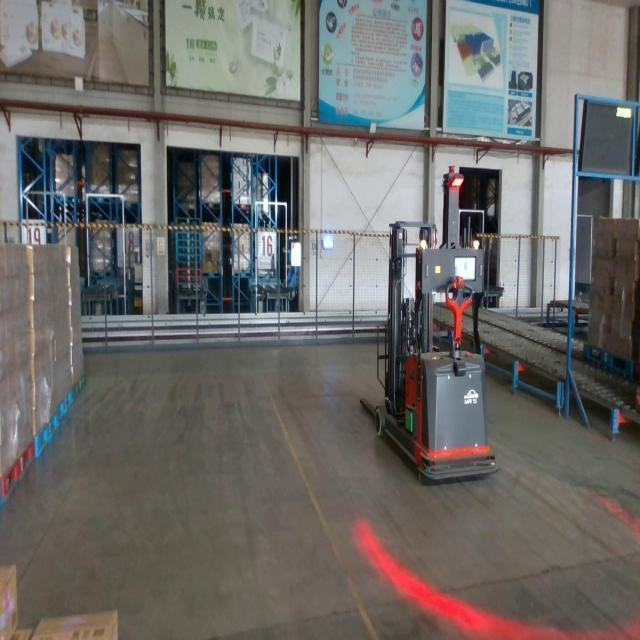forklift: (359, 167, 501, 488)
